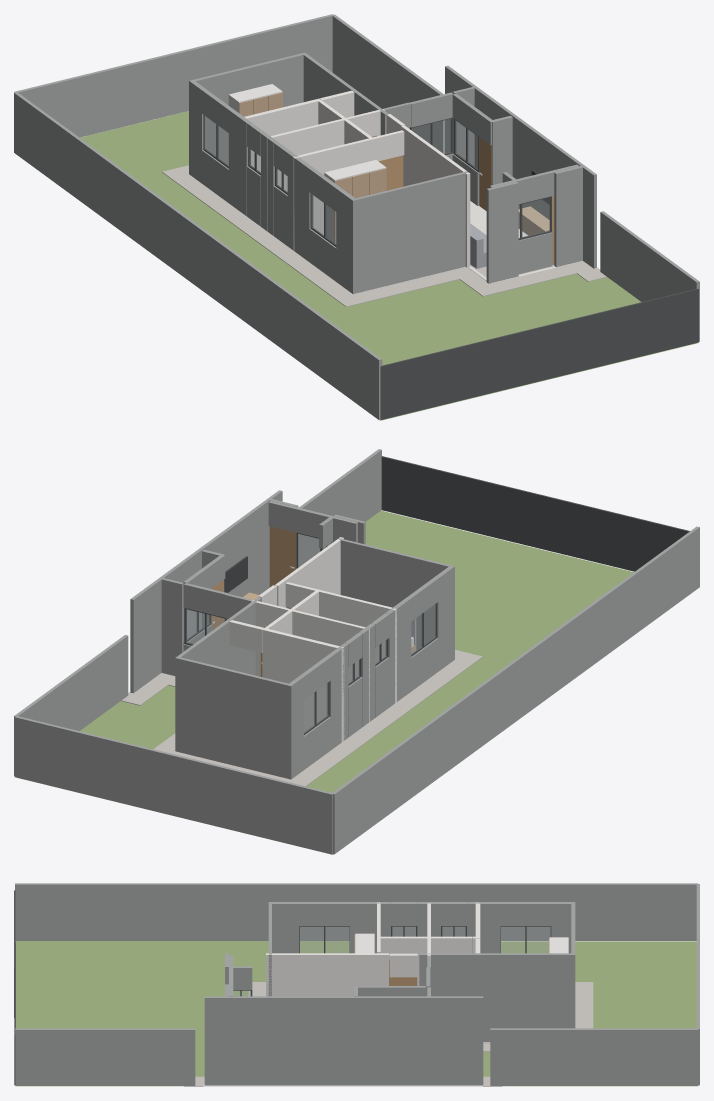
The model's file is casa.glb.
3 views of the same model, one above another, from view 1: azimuth 30°, elevation 25°; view 2: azimuth 150°, elevation 25°; view 3: azimuth 270°, elevation 25° (orthographic). The views are drawn at different scales.
Parts seen in each view (by area): view 1: fachada, grama, esquadria, parede, concreto, vidro, madeira, armario, piso, door1_swing__porta, tecido; view 2: fachada, grama, esquadria, parede, concreto, vidro, door7_swing__porta; view 3: fachada, grama, parede, vidro, concreto, esquadria, armario, piso.
Part boxes in pixels (<box>): fachada: <box>14,14,699,419</box>; grama: <box>80,111,697,420</box>; esquadria: <box>203,115,698,419</box>; parede: <box>239,90,470,267</box>; concreto: <box>162,165,607,306</box>; vidro: <box>204,115,549,244</box>; madeira: <box>239,92,549,243</box>; armario: <box>228,84,386,242</box>; piso: <box>353,201,598,294</box>; door1_swing__porta: <box>479,137,491,210</box>; tecido: <box>470,223,486,268</box>; fachada: <box>14,449,699,854</box>; grama: <box>25,510,633,854</box>; esquadria: <box>184,456,689,735</box>; parede: <box>229,537,396,742</box>; concreto: <box>121,649,482,786</box>; vidro: <box>186,534,435,732</box>; door7_swing__porta: <box>269,526,296,587</box>; fachada: <box>15,883,699,1085</box>; grama: <box>15,941,697,1086</box>; parede: <box>266,902,480,996</box>; vidro: <box>233,927,550,995</box>; concreto: <box>184,982,593,1086</box>; esquadria: <box>14,890,551,1085</box>; armario: <box>355,933,568,953</box>; piso: <box>203,1042,490,1086</box>.
Size of the model in its own units: 10.07 by 2.83 by 19.92.
